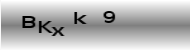9: (102, 9, 117, 25)
B: (20, 14, 37, 30)
K: (37, 19, 53, 34)
k: (73, 10, 88, 26)
x: (51, 25, 67, 38)
